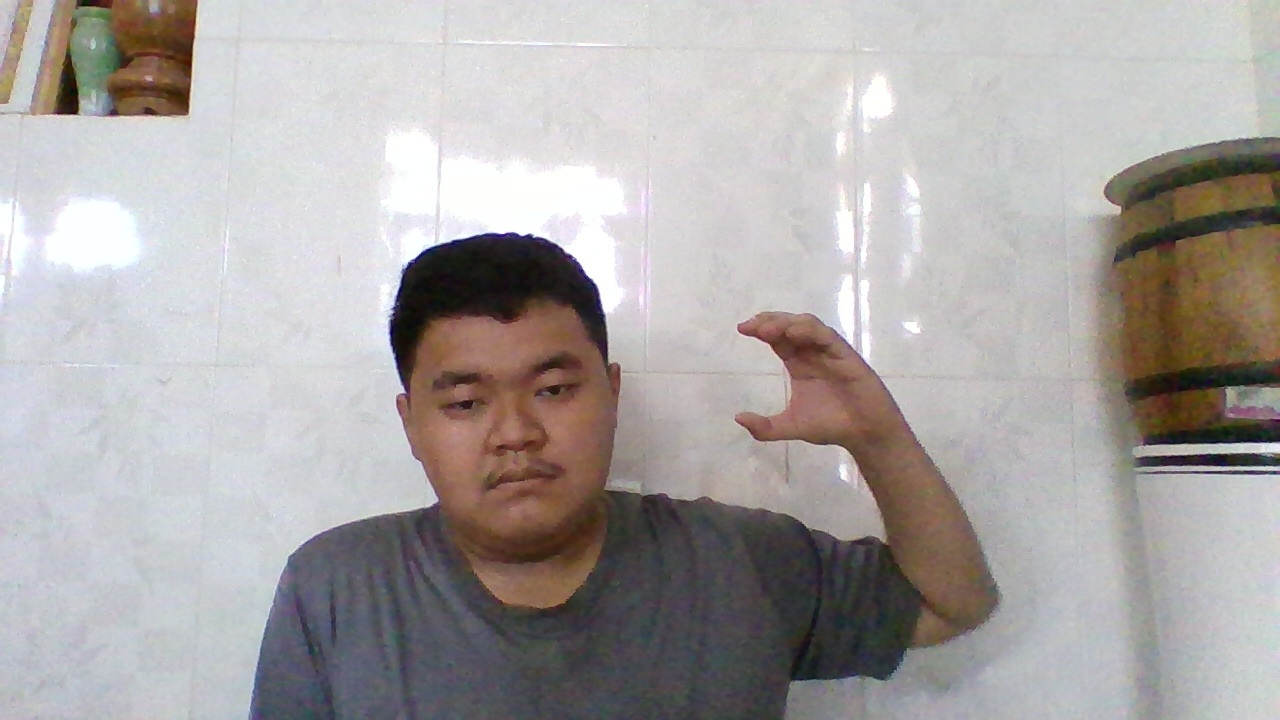C: (725, 302, 879, 452)
